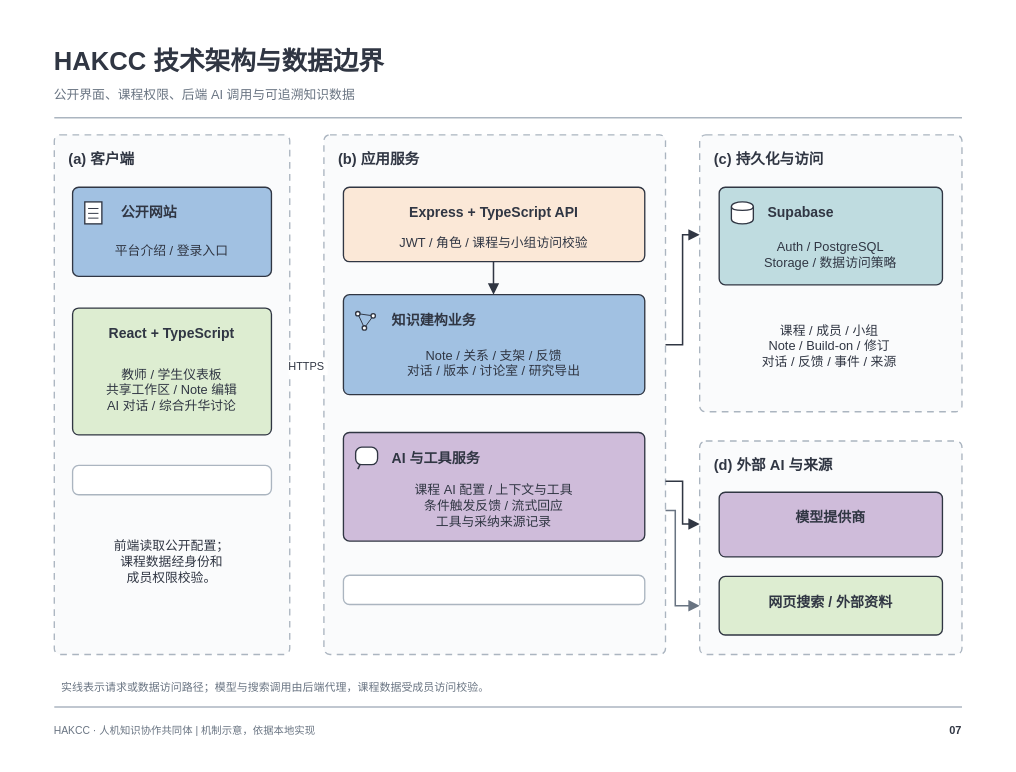
The diagram is 1016 pixels wide and 772 high, and some of its shapes have lost their labels. The centre of each missing label's shape, as x and y in pixels:
"Vite · Web · Capacitor" goes at [171,479].
"后端处理提供商凭据与受限调用" goes at [493,589].
